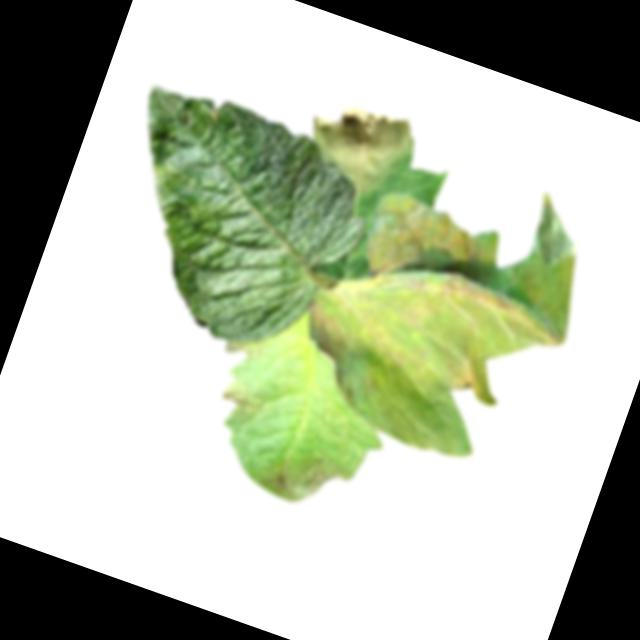Late_blight: (353, 186, 501, 314), (293, 84, 419, 203), (285, 297, 378, 400), (265, 436, 356, 518), (443, 354, 489, 401), (220, 383, 253, 410)
healthy: (77, 73, 388, 371)
